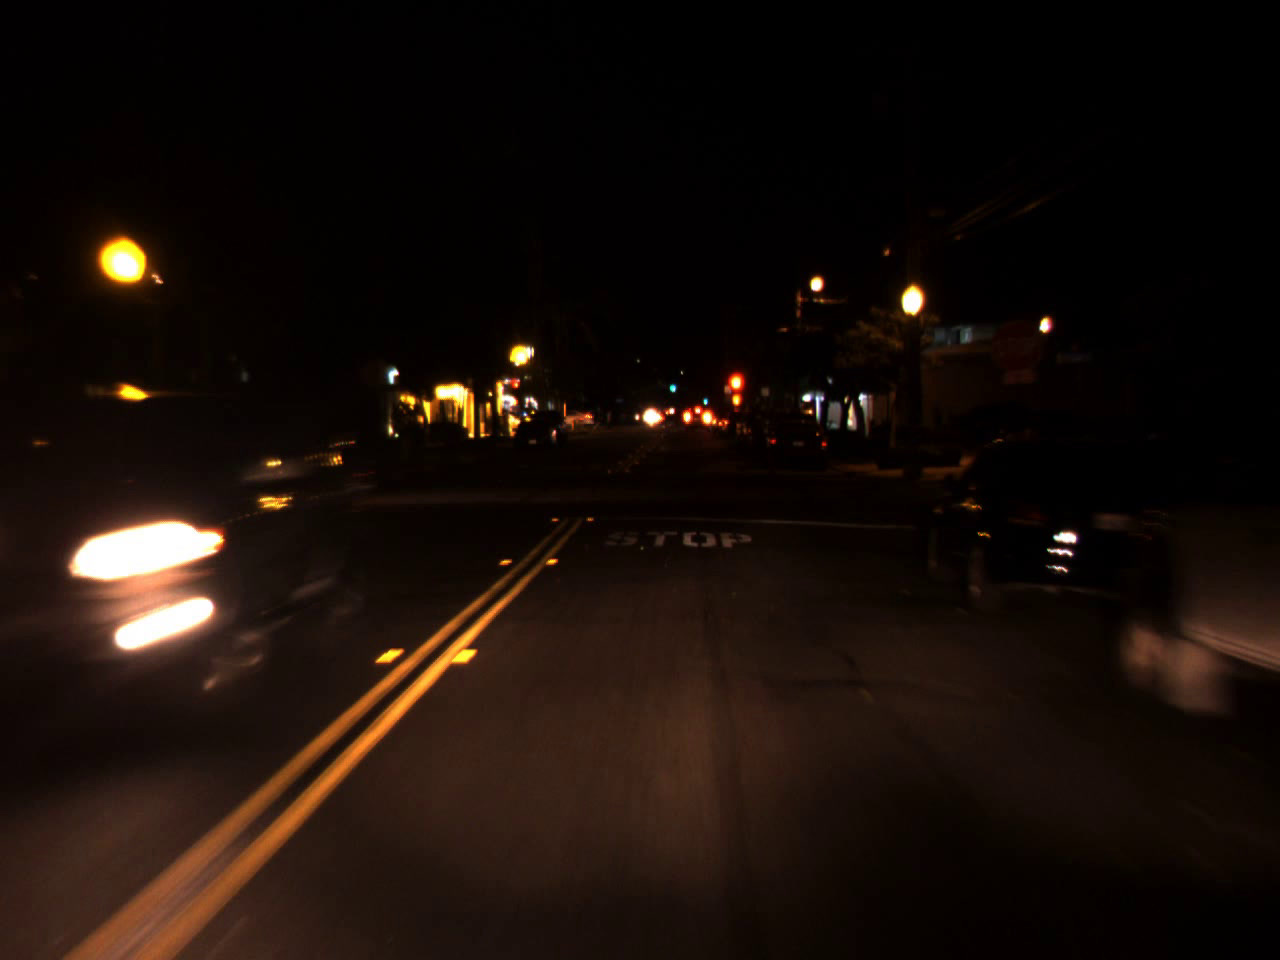go: (667, 380, 676, 392)
stop: (728, 373, 746, 405), (507, 378, 522, 399)
